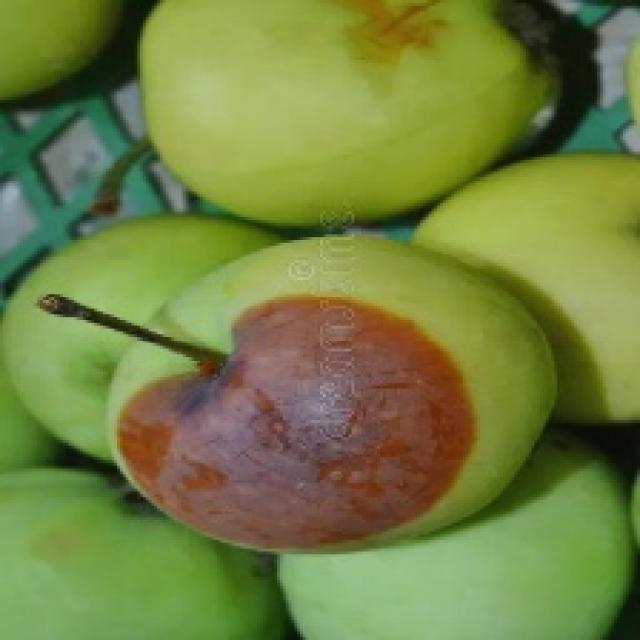rotten_apple: (113, 234, 558, 549)
